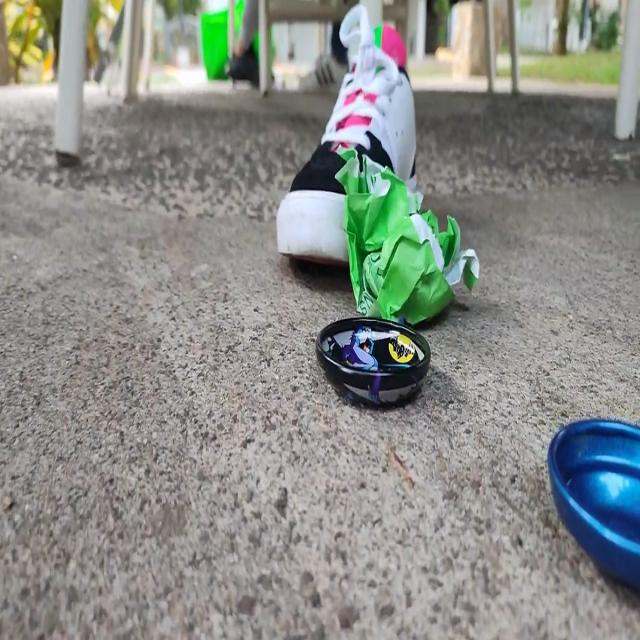paper: (331, 140, 491, 336)
